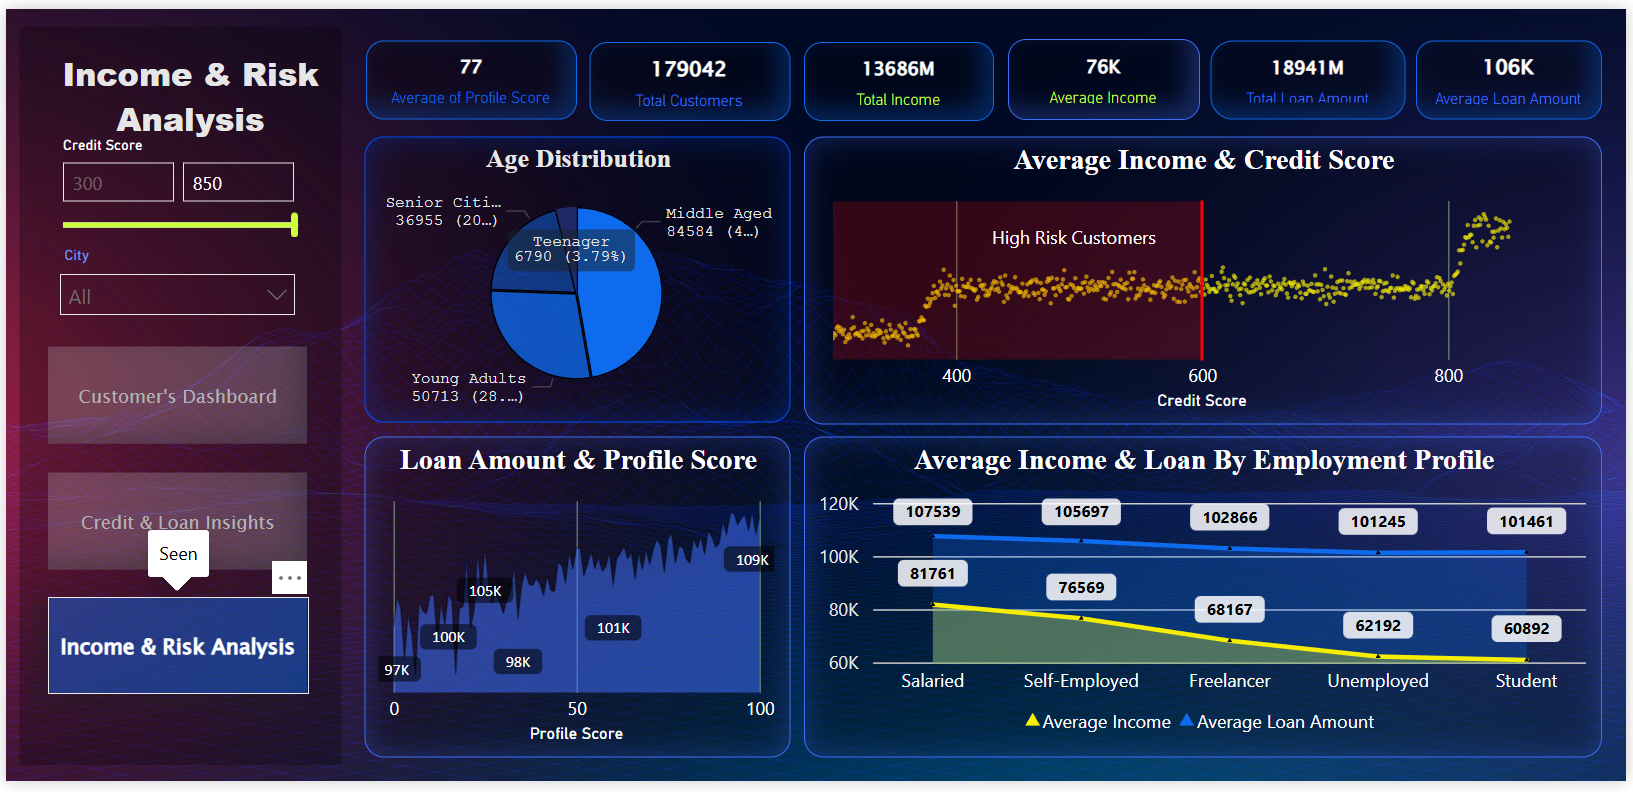

The dashboard page shown, as its layout file describes it:
{"tool":"powerbi","page":{"name":"Income & Risk","canvas":[1080,515],"ordinal":2},"visuals":[{"type":"shape","box":[9.5,12.3,214.6,491.9],"z":0},{"type":"textbox","box":[0,22.9,246.4,72.9],"z":1000},{"type":"scatterChart","title":"Average Income  & Credit Score","fields":{"Y":["credit_data.Income"],"X":["credit_data.Credit Score"]},"box":[531.8,85.5,532.7,191.8],"z":2000},{"type":"stackedAreaChart","title":"Loan Amount & Profile Score","fields":{"Category":["credit_data.Profile Score"],"Y":["Avg(credit_data.Loan Amount)"]},"box":[239.3,284.9,283.9,214.6],"z":3000},{"type":"textbox","box":[641.7,137.3,140.5,32.7],"z":4000},{"type":"card","fields":{"Values":["Sum(credit_data.Loan Amount)"]},"box":[802.9,20.7,129.6,53.4],"z":5000},{"type":"areaChart","title":"Average Income & Loan By Employment Profile","fields":{"Category":["credit_data.Employment Profile"],"Y":["Avg(credit_data.Income)","Avg(credit_data.Loan Amount)"]},"box":[531.8,284.9,532.7,214.6],"z":6000},{"type":"card","fields":{"Values":["Avg(credit_data.Loan Amount)"]},"box":[940.2,20.7,124.2,53.4],"z":7000},{"type":"card","fields":{"Values":["credit_data.Total Customers"]},"box":[388.9,21.8,134,53.4],"z":8000},{"type":"card","fields":{"Values":["Avg(credit_data.Income)"]},"box":[667.8,19.6,128.6,54.5],"z":9000},{"type":"card","fields":{"Values":["Sum(credit_data.Income)"]},"box":[531.7,21.8,127.5,53.4],"z":10000},{"type":"card","fields":{"Values":["Avg(credit_data.Profile Score)"]},"box":[239.7,20.7,141.6,53.4],"z":11000},{"type":"pieChart","title":"Age Distribution","fields":{"Category":["credit_data.Age Category"],"Y":["CountNonNull(Credit_Data.Age Category)"]},"box":[239.3,85.5,283.9,190.9],"z":12000},{"type":"slicer","fields":{"Values":["Credit_Data.City"]},"box":[26,154,177,66],"z":13000},{"type":"slicer","fields":{"Values":["Credit_Data.Credit Score"]},"box":[30,85,173,77],"z":14000},{"type":"textbox","box":[28,225,173,65],"z":15000},{"type":"textbox","box":[28,309,173,65],"z":16000},{"type":"textbox","box":[28,392,173,65],"z":17000},{"type":"actionButton","box":[28,225,174,65],"z":17001},{"type":"actionButton","box":[28,392,174,65],"z":17002},{"type":"actionButton","box":[27,309,174,65],"z":17003}]}

Visuals, with their boxes on the page's 1080x515 design canvas (x1, y1, x2, y2). These are canvas units, not pixel positions in the 1633x792 screenshot, which may show the page scaled, cropped or inside an application window:
shape: bbox=[10, 12, 224, 504]
textbox: bbox=[0, 23, 246, 96]
"Average Income  & Credit Score" scatterChart: bbox=[532, 86, 1064, 277]
"Loan Amount & Profile Score" stackedAreaChart: bbox=[239, 285, 523, 500]
textbox: bbox=[642, 137, 782, 170]
card - Sum(credit_data.Loan Amount): bbox=[803, 21, 932, 74]
"Average Income & Loan By Employment Profile" areaChart: bbox=[532, 285, 1064, 500]
card - Avg(credit_data.Loan Amount): bbox=[940, 21, 1064, 74]
card - credit_data.Total Customers: bbox=[389, 22, 523, 75]
card - Avg(credit_data.Income): bbox=[668, 20, 796, 74]
card - Sum(credit_data.Income): bbox=[532, 22, 659, 75]
card - Avg(credit_data.Profile Score): bbox=[240, 21, 381, 74]
"Age Distribution" pieChart: bbox=[239, 86, 523, 276]
slicer - Credit_Data.City: bbox=[26, 154, 203, 220]
slicer - Credit_Data.Credit Score: bbox=[30, 85, 203, 162]
textbox: bbox=[28, 225, 201, 290]
textbox: bbox=[28, 309, 201, 374]
textbox: bbox=[28, 392, 201, 457]
actionButton: bbox=[28, 225, 202, 290]
actionButton: bbox=[28, 392, 202, 457]
actionButton: bbox=[27, 309, 201, 374]
